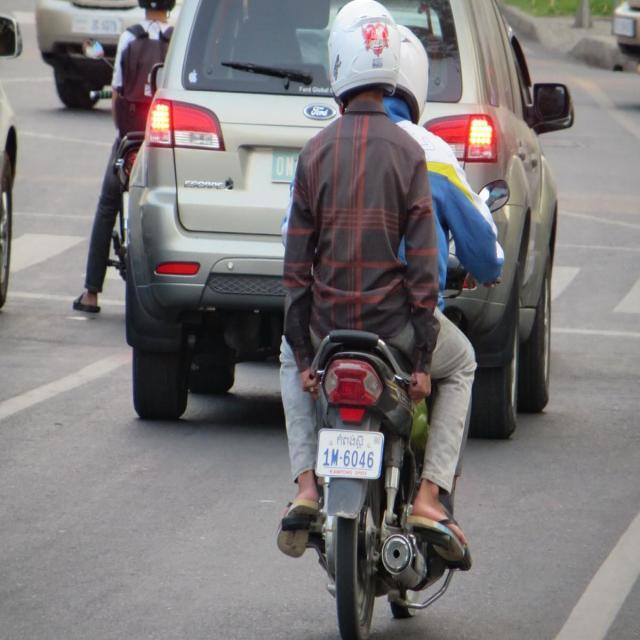Kampong_Speu: (335, 432, 366, 450)
